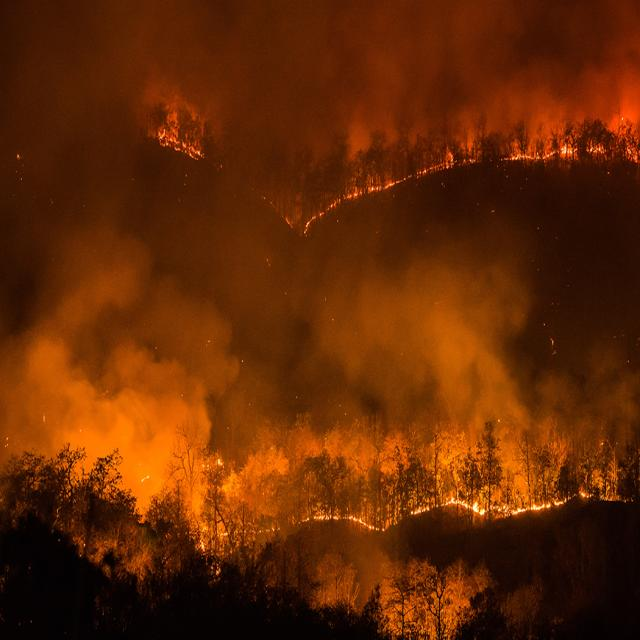Fire: (307, 156, 474, 222), (312, 493, 604, 530), (482, 147, 640, 164), (150, 107, 200, 156)
Smoke: (297, 228, 547, 446), (14, 257, 204, 513), (400, 19, 634, 134)
